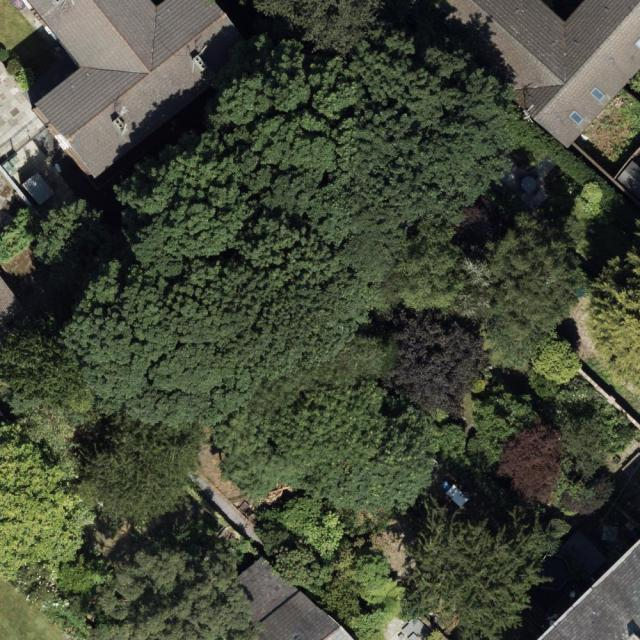roof: (25, 0, 260, 180), (426, 0, 640, 149), (216, 558, 356, 640), (540, 538, 640, 640)
skylight: (568, 108, 586, 127), (589, 85, 606, 102), (634, 38, 640, 51)
